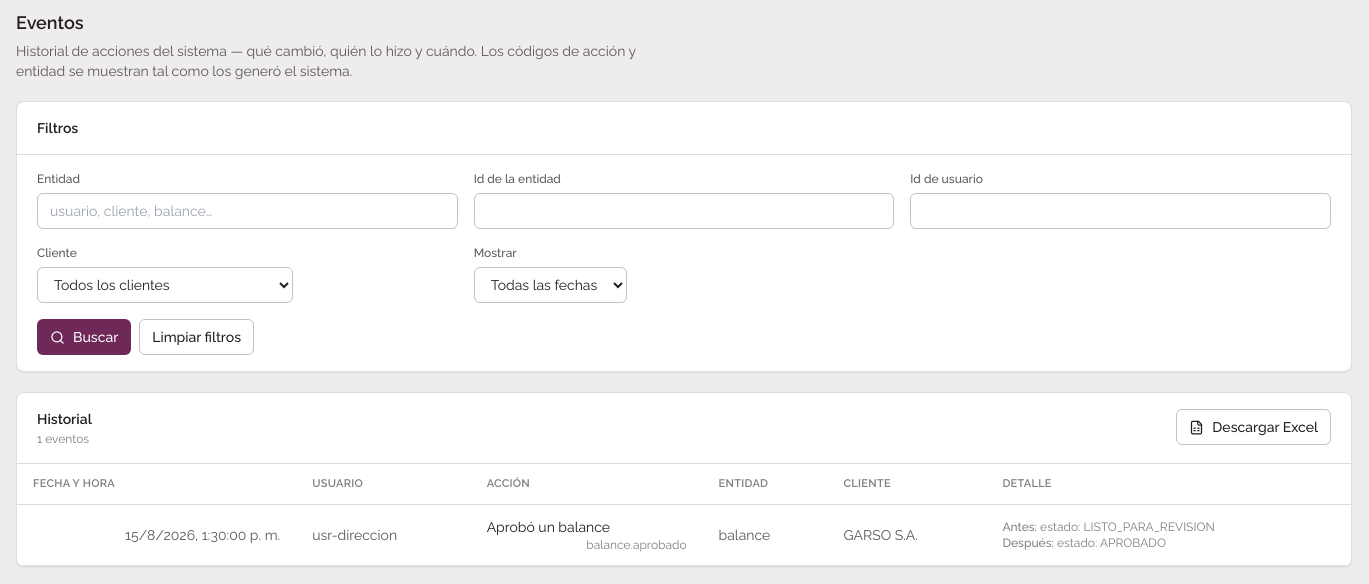
Test case: pantalla de eventos › limpiar filtros vuelve a buscar sin ningún filtro
Expected: the table named "Historial de eventos" is shown, [17,464,1351,566]
Step 1. Type "balance" into the field labelled "Entidad" → (247, 211), box [37,193,458,229]
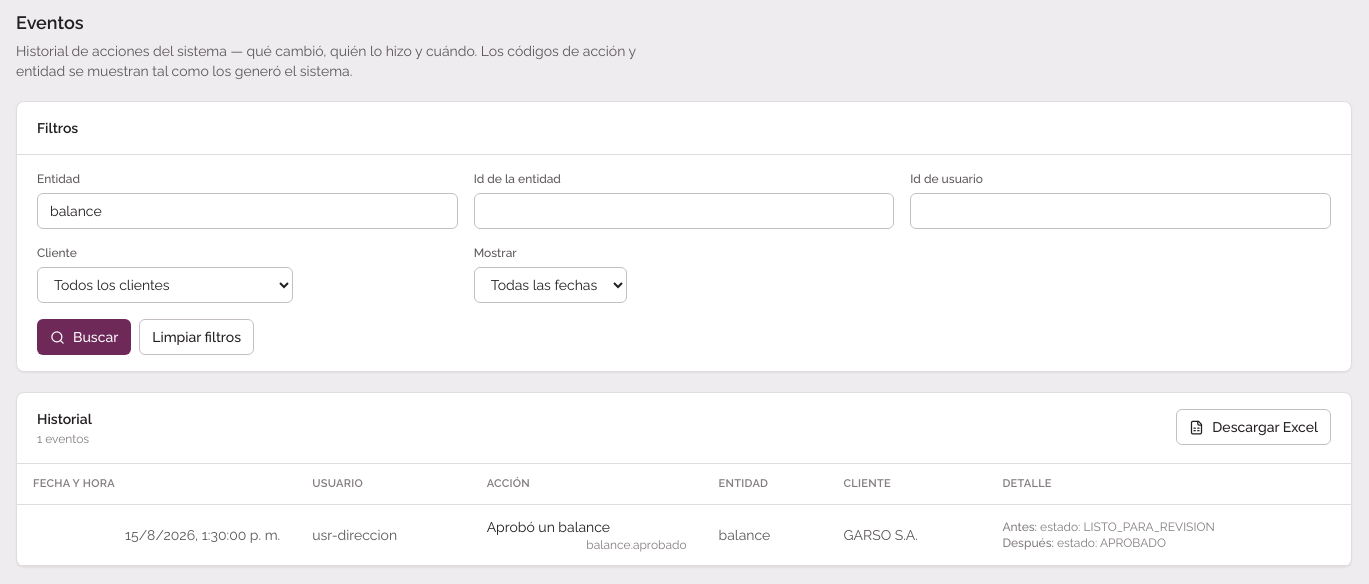
Step 2. Click the button "Limpiar filtros" → (197, 337), box [139,319,254,355]
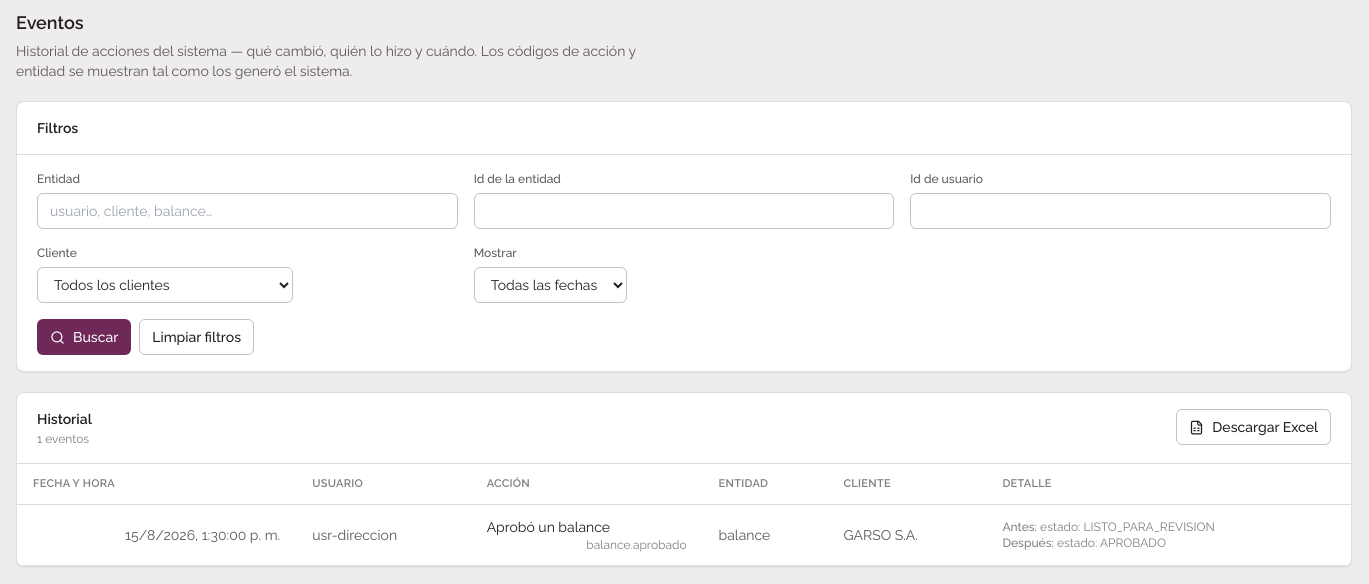
Expected: the field labelled "Entidad" is empty, [37,193,458,229]
